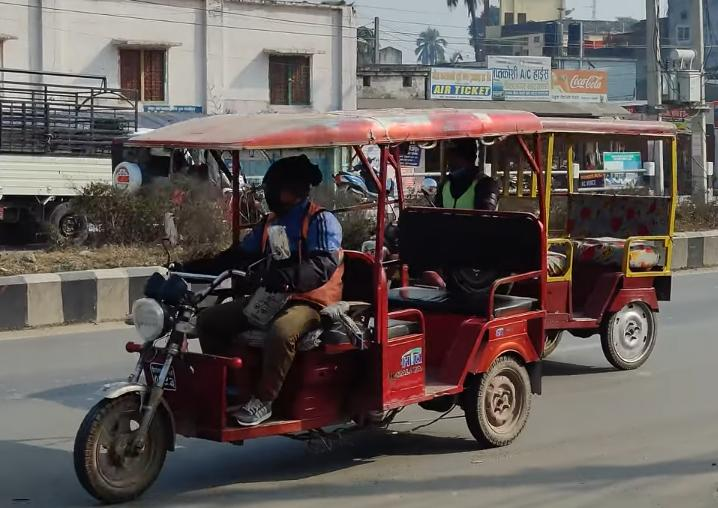e-rickshaw: (78, 94, 538, 492)
